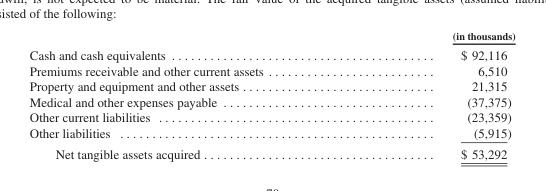table: (28, 29, 514, 160)
table column: (28, 29, 357, 160), (357, 29, 514, 160)
table column header: (28, 29, 514, 44)
table row: (28, 44, 514, 62), (28, 124, 514, 142), (28, 142, 514, 160), (28, 62, 514, 78), (28, 93, 514, 109), (28, 29, 514, 44), (28, 78, 514, 93), (28, 109, 514, 124)
